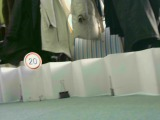speed_20: (22, 51, 42, 70)
